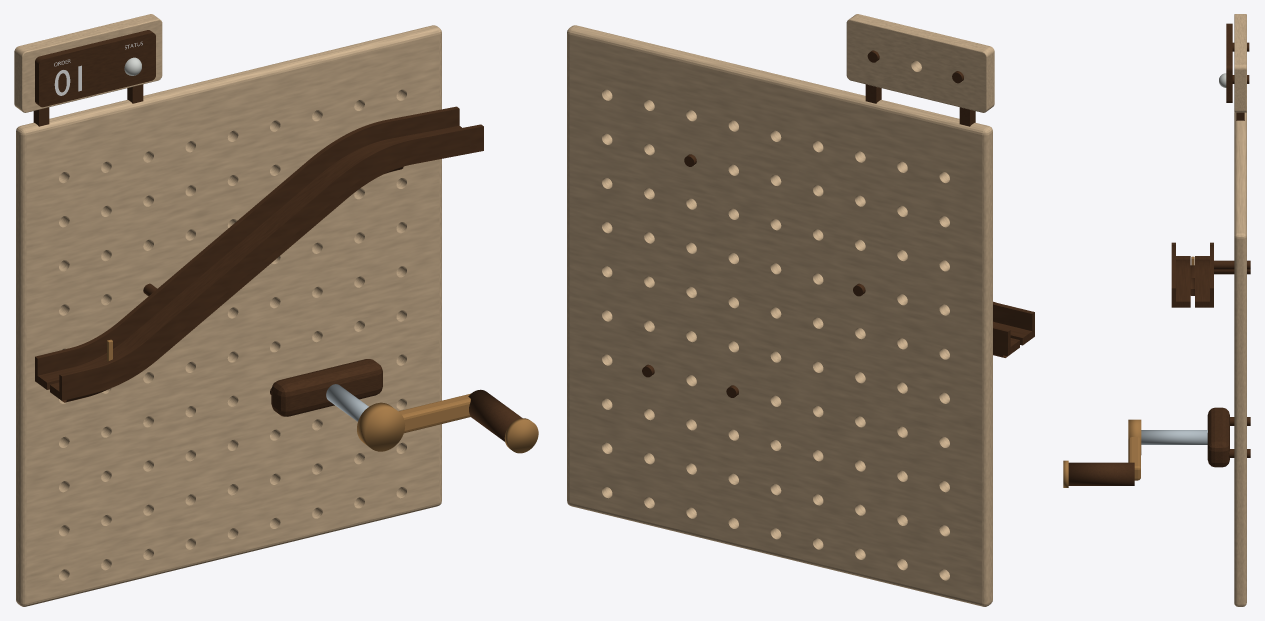
File: standard.glb
3 renders of one model, left to right at view 1: azimuth 30°, elevation 25°; view 2: azimuth 150°, elevation 25°; view 3: azimuth 270°, elevation 25°, orthographic. The views are drawn at different scales.
Parts seen in each view (by area): view 1: BOARD | one fixed track, aligned ports, TRACK | wall -1, TRACK | wall 1, BADGE | walnut label, TRACK | floor 1, BADGE | perforated ash backing, MOUNT | crank integral wooden hub, TRACK | floor -1, MECHANISM | crank hub, DRIVEN | crank arm, DRIVEN | wooden grip, DRIVEN | grip safety lip (+1 smaller); view 2: BOARD | one fixed track, aligned ports, BADGE | perforated ash backing, TRACK | wall -1; view 3: BOARD | one fixed track, aligned ports, DRIVEN | wooden grip, MOUNT | crank integral wooden hub, BADGE | perforated ash backing, MECHANISM | crank axle, TRACK | floor -1, TRACK | floor 1, BADGE | walnut label, DRIVEN | crank arm, TRACK | wall -1, MECHANISM | crank hub.
Boxes of the visible parts, <box> form: BOARD | one fixed track, aligned ports: <box>16,25,441,606</box>; TRACK | wall -1: <box>59,124,483,393</box>; TRACK | wall 1: <box>35,106,459,375</box>; BADGE | walnut label: <box>35,30,155,107</box>; TRACK | floor 1: <box>35,125,461,389</box>; BADGE | perforated ash backing: <box>14,14,162,112</box>; MOUNT | crank integral wooden hub: <box>271,359,382,416</box>; TRACK | floor -1: <box>50,143,483,400</box>; MECHANISM | crank hub: <box>357,402,405,451</box>; DRIVEN | crank arm: <box>398,393,470,433</box>; DRIVEN | wooden grip: <box>468,389,522,441</box>; DRIVEN | grip safety lip: <box>504,418,538,453</box>; BOARD | one fixed track, aligned ports: <box>567,25,992,606</box>; BADGE | perforated ash backing: <box>846,14,994,112</box>; TRACK | wall -1: <box>993,301,1034,330</box>; BOARD | one fixed track, aligned ports: <box>1234,112,1246,606</box>; DRIVEN | wooden grip: <box>1068,462,1134,485</box>; MOUNT | crank integral wooden hub: <box>1207,407,1229,467</box>; BADGE | perforated ash backing: <box>1234,14,1246,112</box>; MECHANISM | crank axle: <box>1141,430,1207,444</box>; TRACK | floor -1: <box>1171,256,1190,307</box>; TRACK | floor 1: <box>1195,256,1213,307</box>; BADGE | walnut label: <box>1226,23,1232,102</box>; DRIVEN | crank arm: <box>1128,437,1140,480</box>; TRACK | wall -1: <box>1171,242,1175,301</box>; MECHANISM | crank hub: <box>1128,419,1141,454</box>.
Size of the model in its own units: 0.72 by 0.908 by 0.354.
22 materials, 18 textured.
